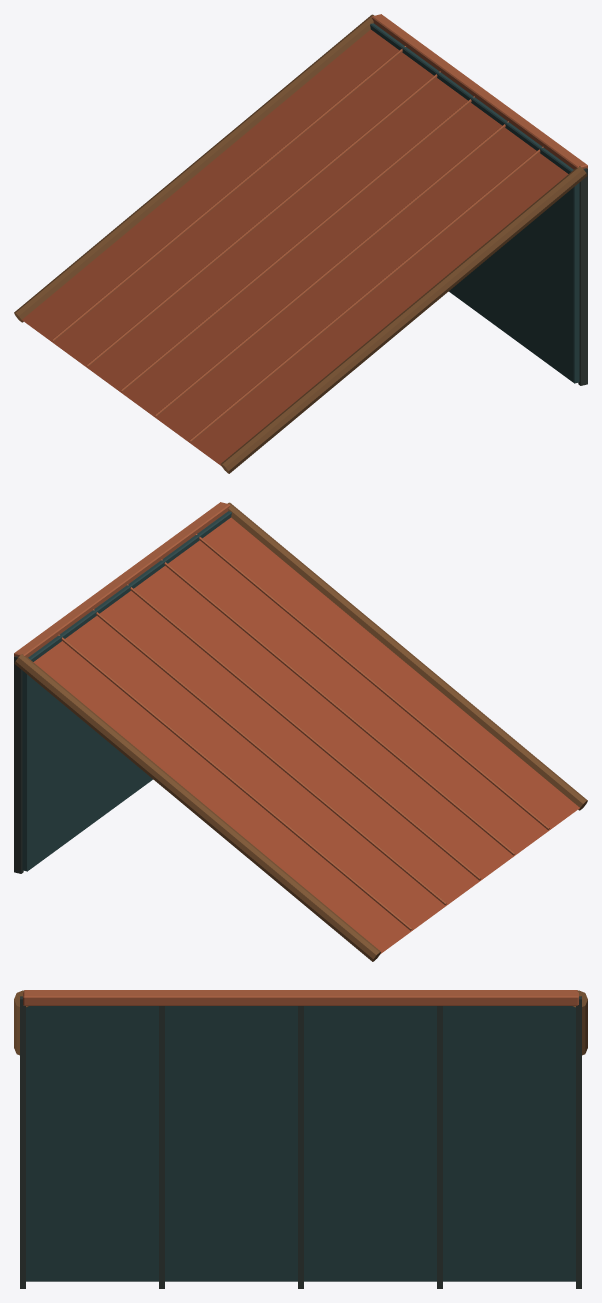
The model's file is hall_sawtooth_bay.glb.
3 views of the same model, one above another, from view 1: azimuth 30°, elevation 25°; view 2: azimuth 150°, elevation 25°; view 3: azimuth 270°, elevation 25° (orthographic). The views are drawn at different scales.
Visible parts, largest first — view 1: roof; view 2: roof; view 3: roof.
Boxes of the visible parts, x1,y1,x2,y2 form: roof: (14, 14, 587, 473); roof: (14, 502, 587, 961); roof: (14, 990, 587, 1288).
Size of the model in its own units: 4.09 by 2.36 by 4.13.
